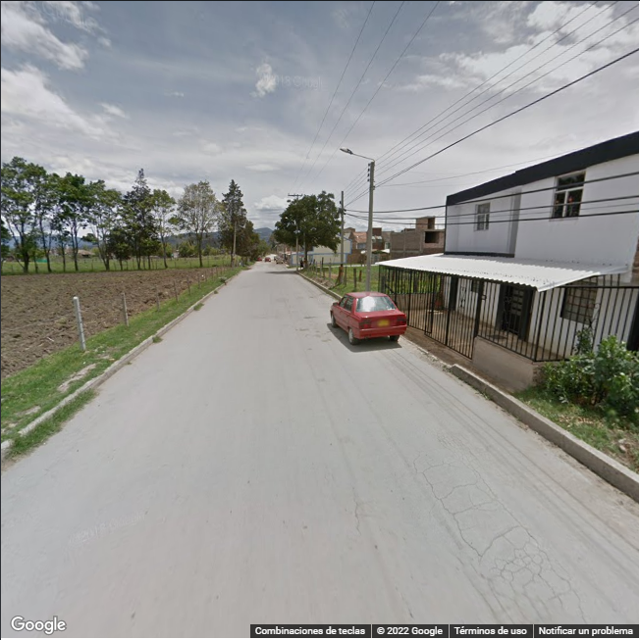D00: (416, 468, 488, 557), (347, 484, 367, 539)
D10: (444, 473, 480, 502)
D20: (486, 521, 589, 621)
